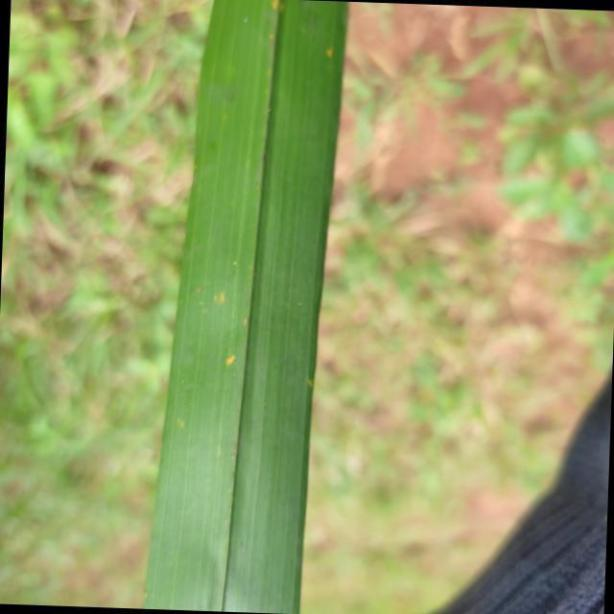Kalium: (144, 0, 353, 614)
